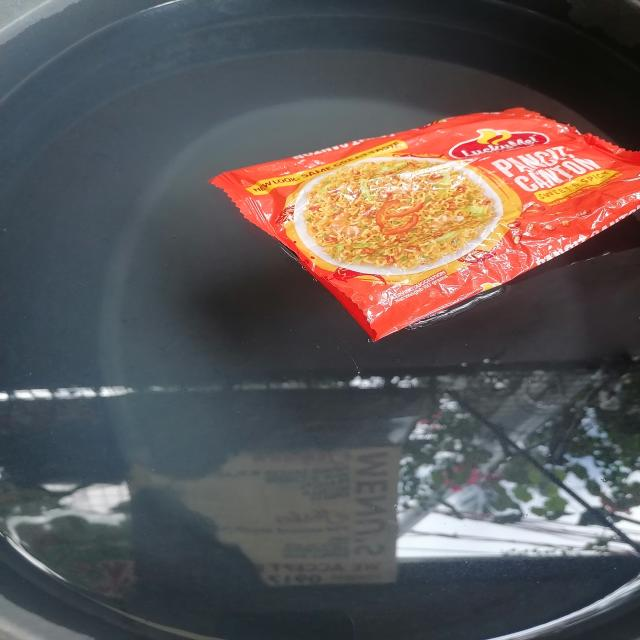Plastic Wrapper: (209, 108, 640, 342)
